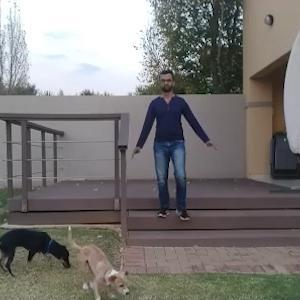land: (131, 72, 213, 225)
